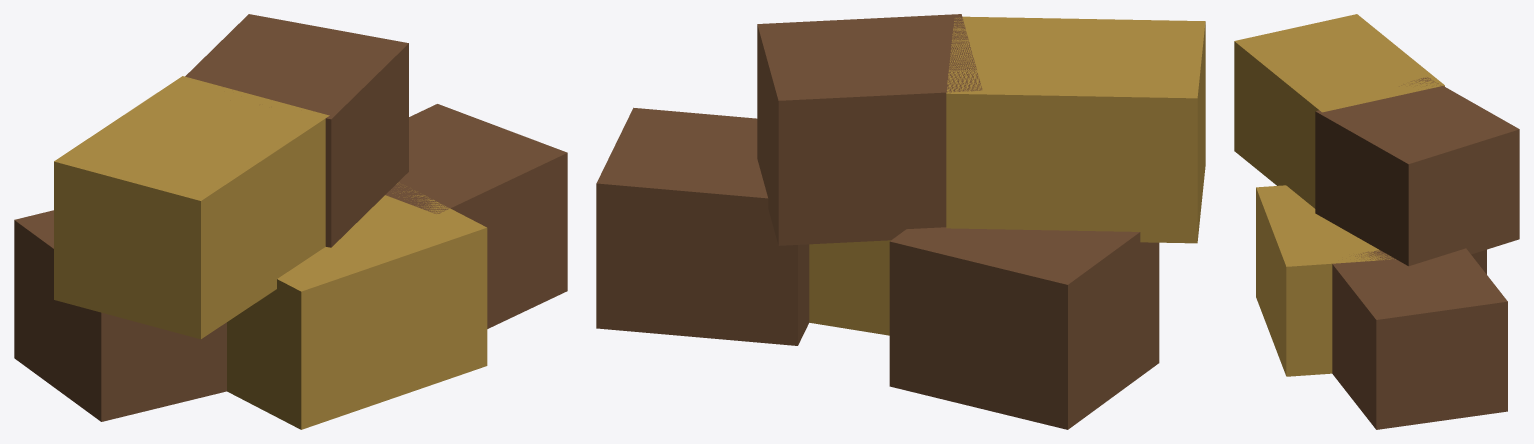
Rendered from story-prop.glb.
3 renders of one model, left to right at view 1: azimuth 30°, elevation 25°; view 2: azimuth 150°, elevation 25°; view 3: azimuth 270°, elevation 25°, orthographic. The views are drawn at different scales.
Parts seen in each view (by area): view 1: crate_3, crate_1, crate_4, crate_2, crate_0; view 2: crate_3, crate_0, crate_4, crate_2, crate_1; view 3: crate_4, crate_2, crate_3, crate_1.
Boxes of the visible parts, x1,y1,x2,y2 form: crate_3: [54, 76, 329, 339]; crate_1: [227, 182, 487, 429]; crate_4: [185, 14, 408, 247]; crate_2: [385, 104, 567, 328]; crate_0: [14, 210, 226, 421]; crate_3: [946, 16, 1205, 243]; crate_0: [889, 227, 1159, 429]; crate_4: [757, 14, 982, 245]; crate_2: [596, 107, 809, 345]; crate_1: [809, 240, 890, 335]; crate_4: [1315, 77, 1519, 266]; crate_2: [1332, 248, 1507, 429]; crate_3: [1234, 14, 1444, 208]; crate_1: [1256, 185, 1395, 376].
Size of what is drawn, in the model's own units: 2.79 by 1.35 by 1.65.
